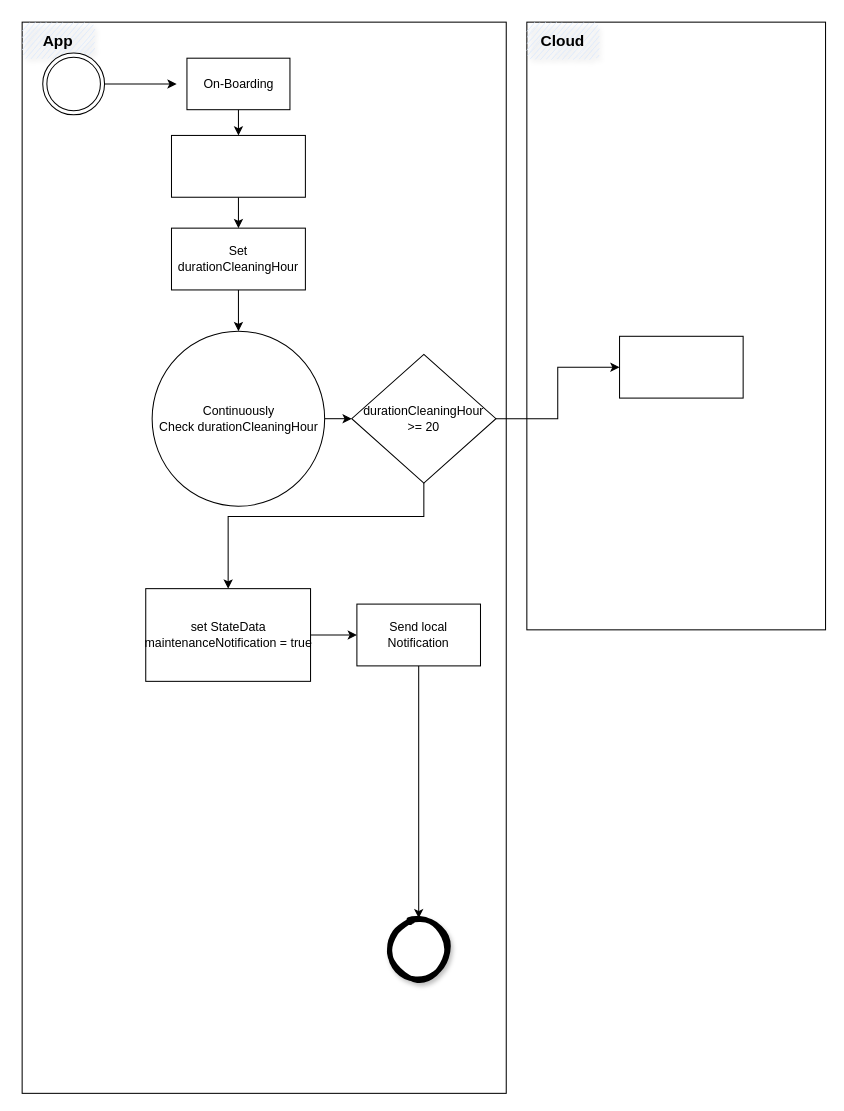
This 844x1111 diagram has some shape labels left out. The centre of each missing label's shape, as x and y in pixels:
End: [419,950]
get durationCleaningHour: [237,165]
Set cleaningHour: [681,366]
Start: [73,83]
